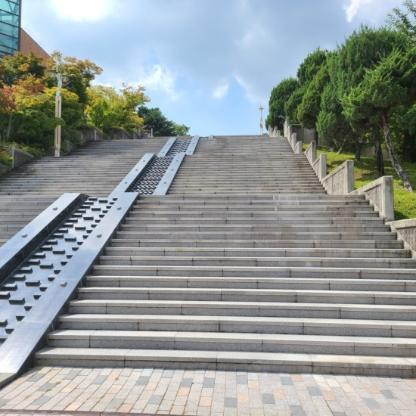stair: (156, 128, 386, 390), (12, 120, 171, 217)
